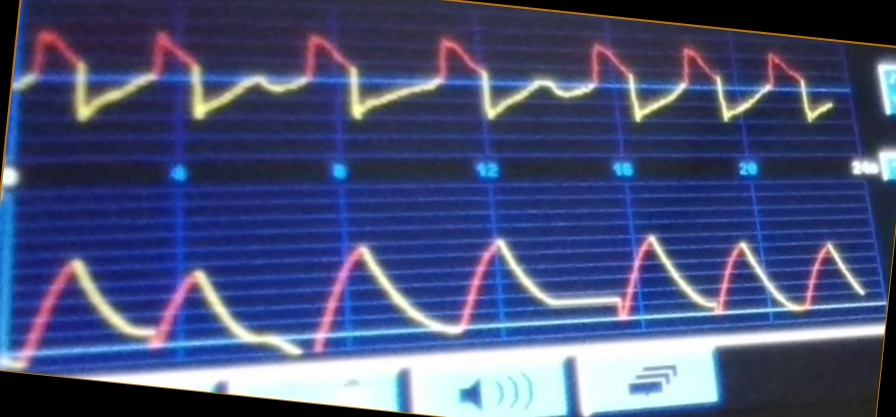Ineffective_effort Flow: (20, 23, 833, 130)
Ineffective_effort Volume: (22, 233, 864, 360)
